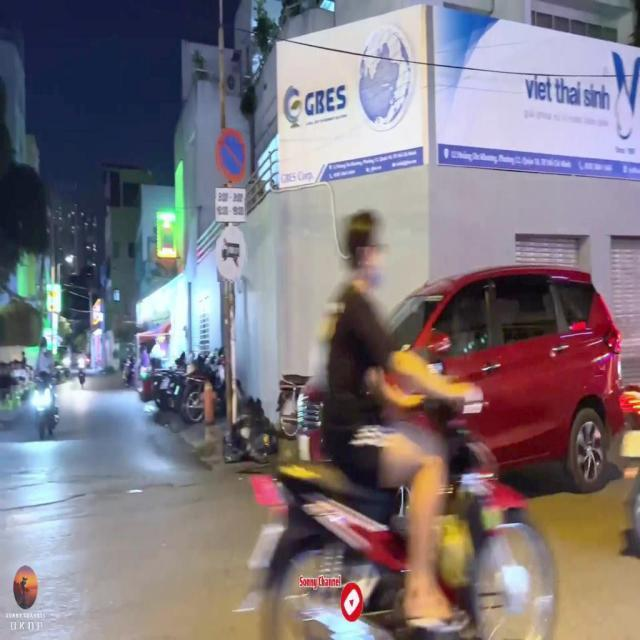106-cam-oto-tai: (216, 226, 248, 282)
131a-cam-do-xe: (216, 126, 244, 182)
